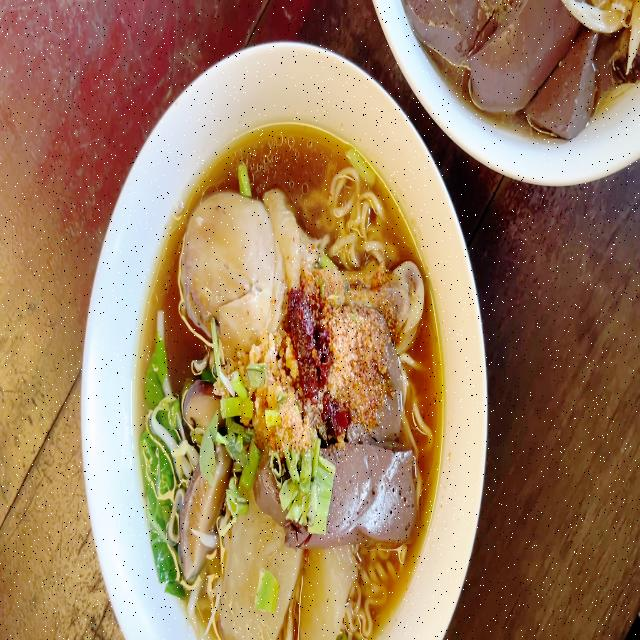boiled_chicken_blood_jelly: (410, 0, 608, 136), (336, 448, 417, 547)
chicken_drumstick: (172, 192, 429, 348)
daikon_radish: (213, 531, 353, 640)
noodle: (150, 138, 440, 640)
